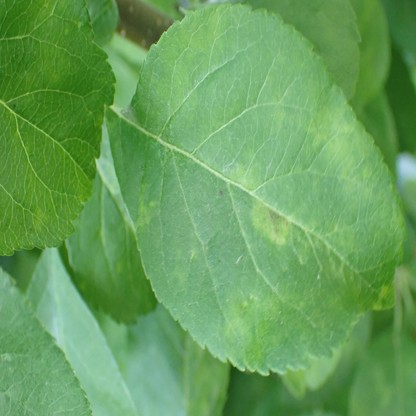scab: (156, 8, 222, 115), (304, 98, 353, 166), (281, 280, 327, 346), (248, 295, 282, 359), (249, 205, 290, 244), (223, 290, 251, 343), (133, 184, 159, 228), (231, 163, 252, 189), (270, 108, 285, 133), (375, 282, 387, 309)
